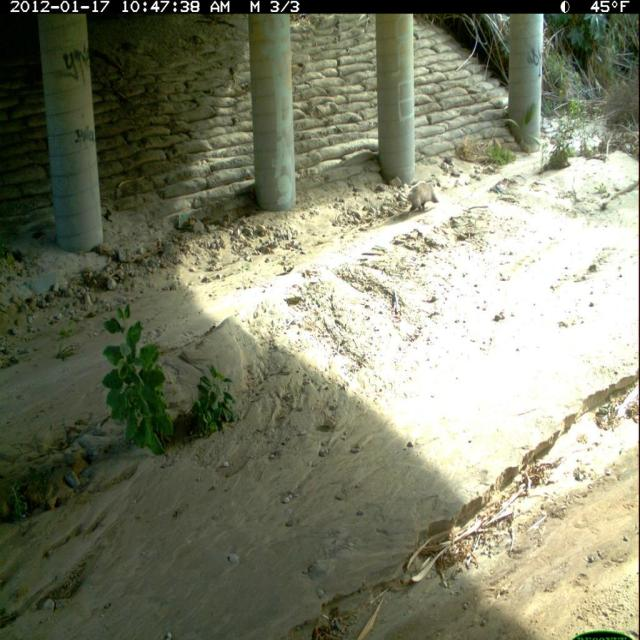opossum: (395, 177, 443, 221)
